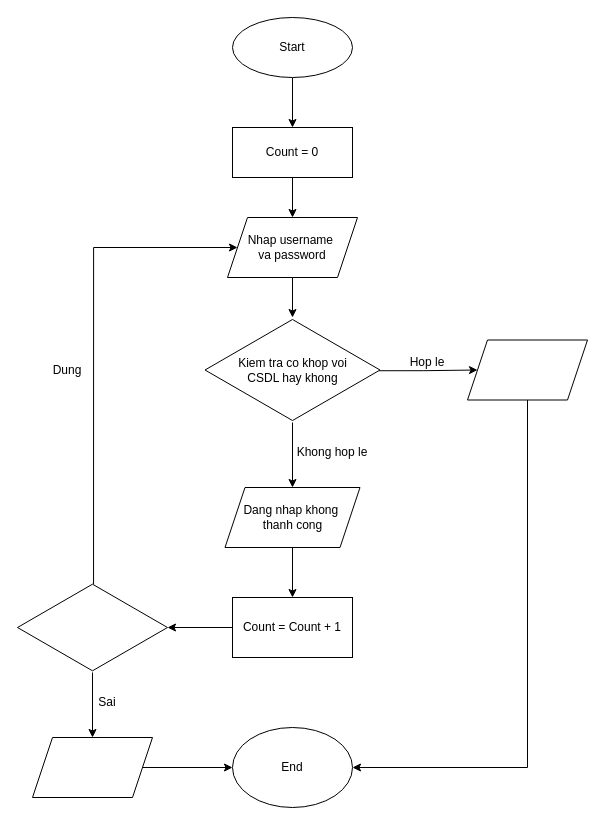
Image size: 605x825. Some labels were removed from this diagram. Each missing label, with the box of its shape:
Count < 5: (16, 582, 168, 672)
Dang nhap thanh cong: (466, 339, 588, 400)
Khoa tai khoan: (32, 736, 152, 798)
